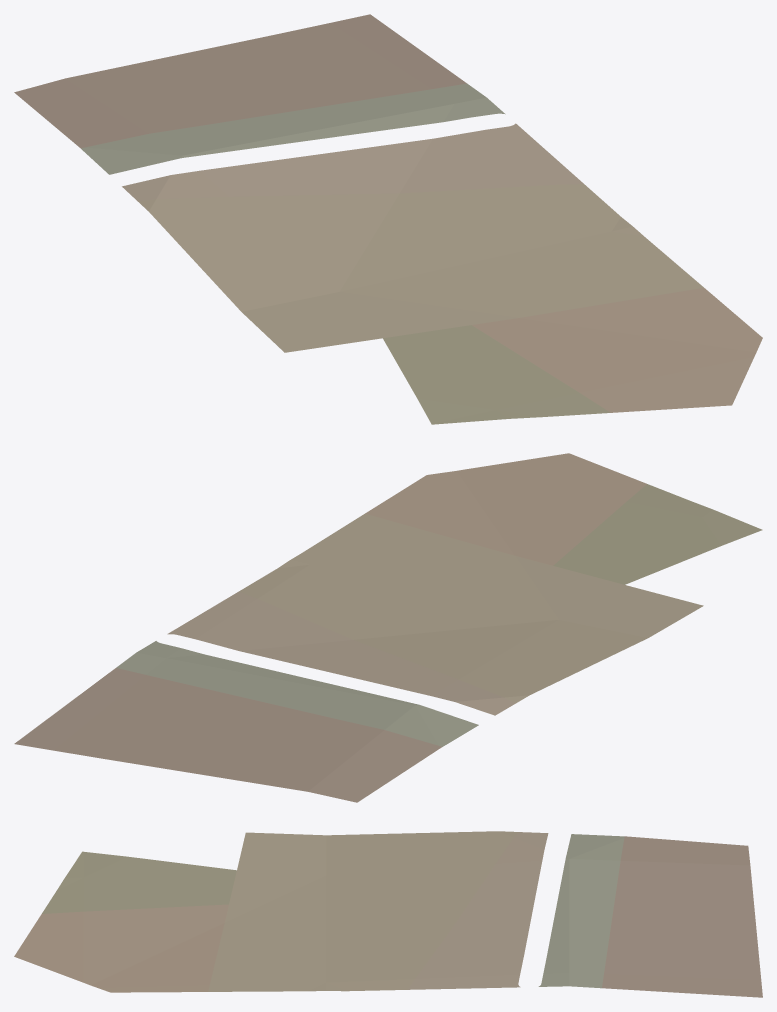
The model's file is farm_16_14_soil.glb.
3 views of the same model, one above another, from view 1: azimuth 30°, elevation 25°; view 2: azimuth 150°, elevation 25°; view 3: azimuth 270°, elevation 25° (orthographic). The views are drawn at different scales.
Visible parts, largest first — view 1: geometry_0; view 2: geometry_0; view 3: geometry_0.
Part boxes in pixels (box(x1,y1,x2,y2)): geometry_0: box(14, 14, 762, 424); geometry_0: box(14, 453, 762, 802); geometry_0: box(14, 831, 762, 997).
Bounding box in the file's own units: 124 × 9.72 × 247.
